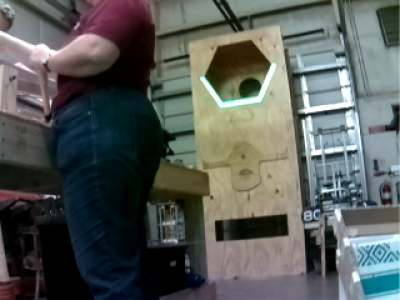target: (200, 63, 277, 107)
